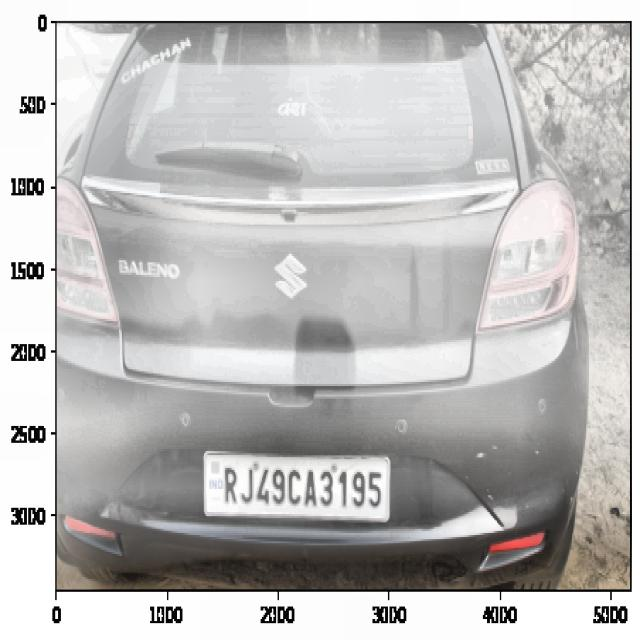license_plate: (214, 455, 389, 519)
